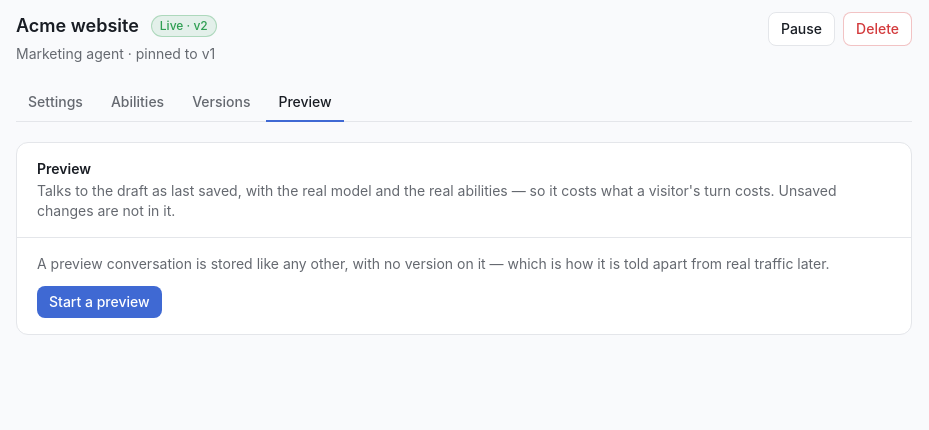
the preview › stops offering the box when a reply says the agent is done
Click the button "Start a preview".
click(99, 302)  # box [37, 286, 162, 318]
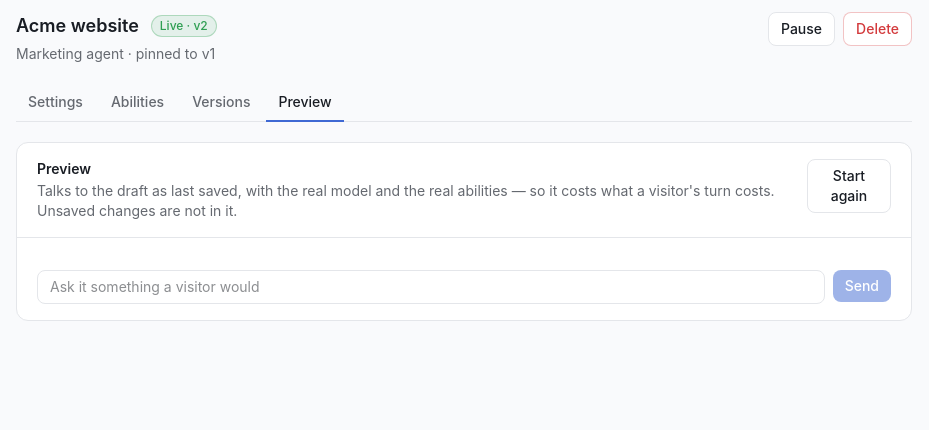
Type "Hello" into the field named "Message to the draft".
click(431, 287); type("Hello")  # box [37, 270, 825, 304]
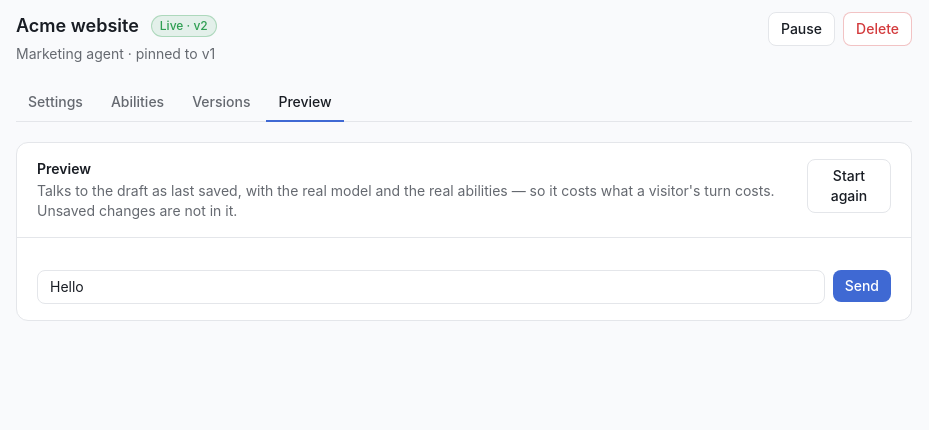
Click the button "Send".
click(862, 286)  # box [833, 270, 891, 302]
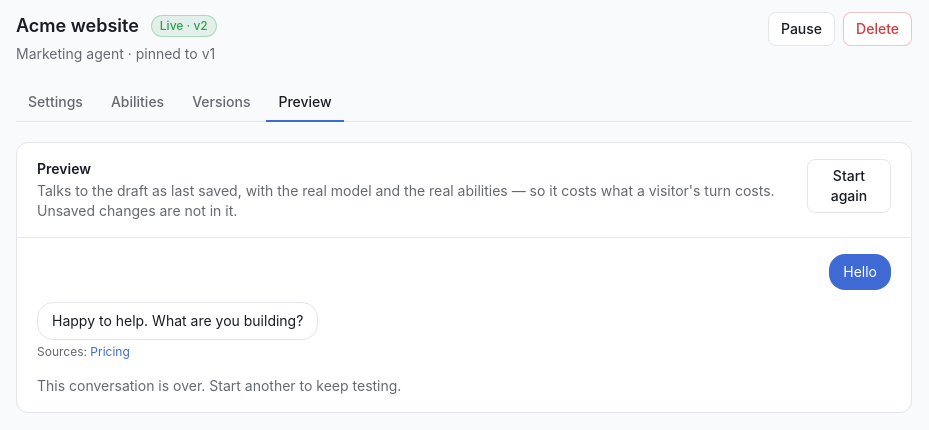
Check: the text "This conversation is over. Start another to keep testing." is shown, box [37, 377, 401, 394]
